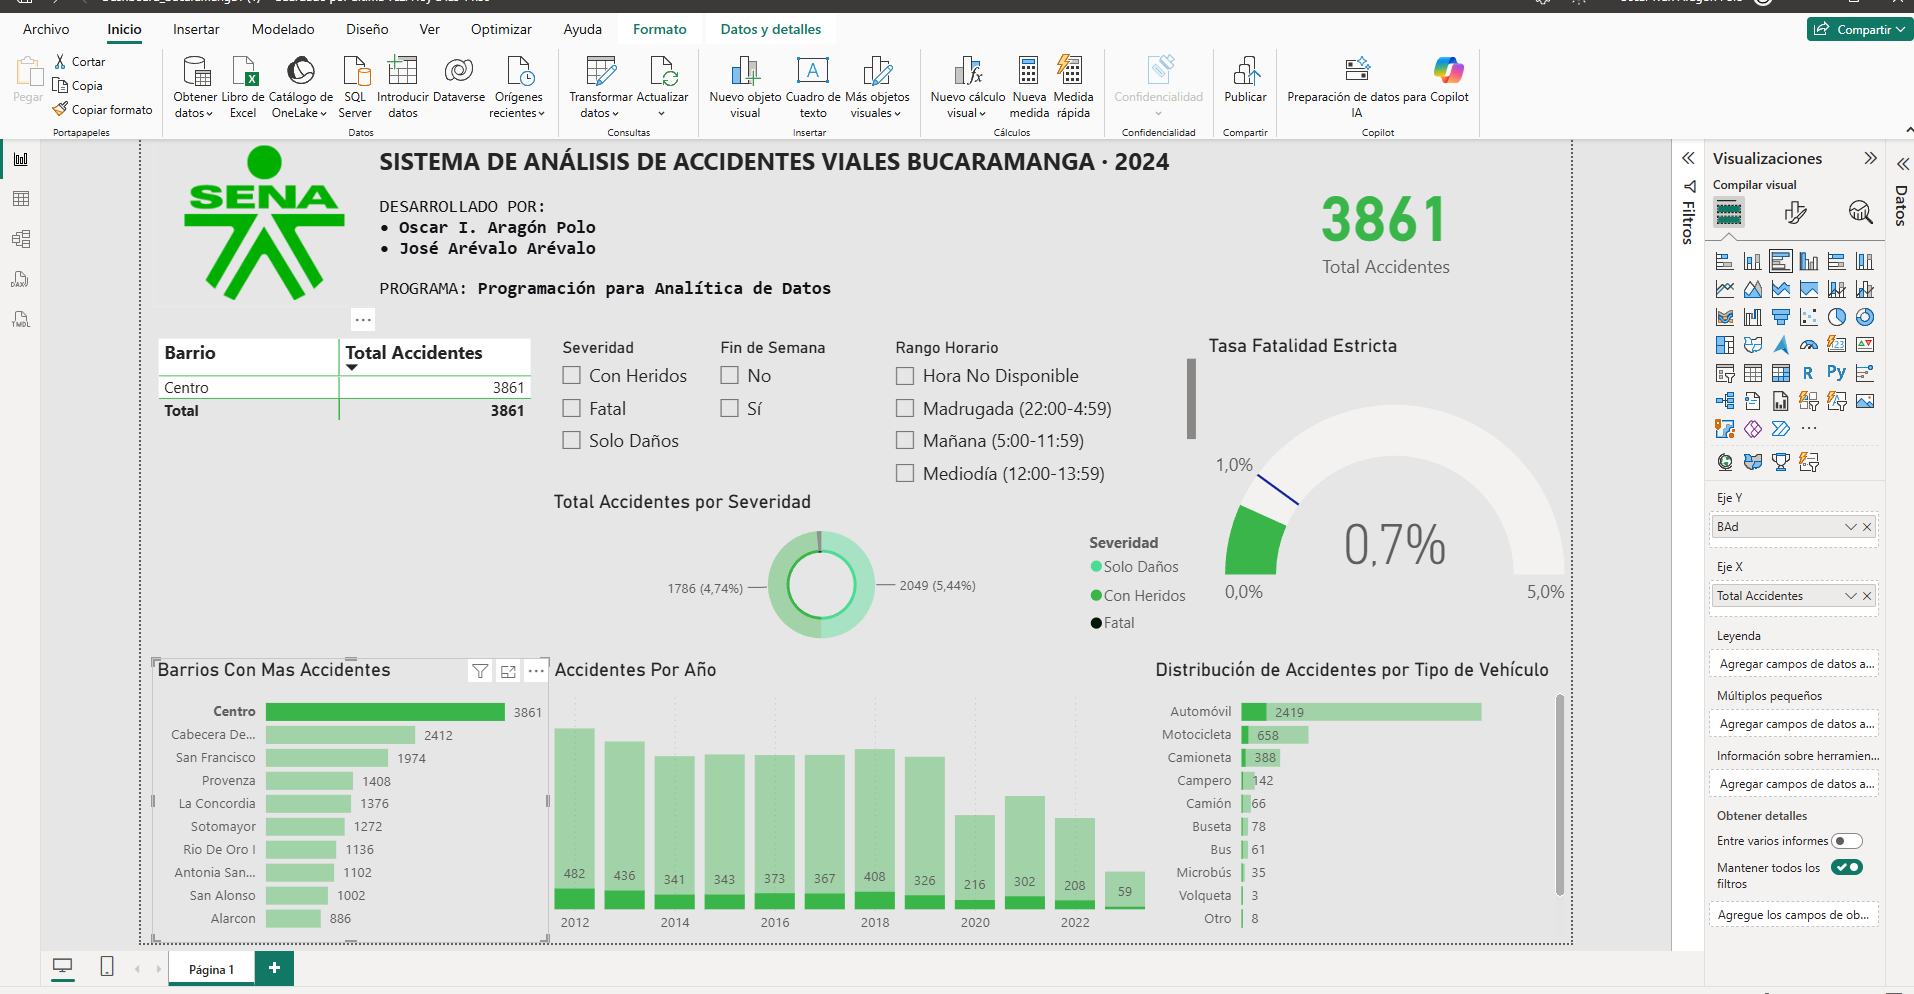

Layout of this report page (visuals, bound fields, positions):
{"tool":"powerbi","page":{"name":"Página 1","canvas":[1280,720],"ordinal":0},"visuals":[{"type":"card","fields":{"Values":["Accidentes_Bucaramanga.Total Accidentes Corregido"]},"box":[950.4,0,329.6,150.5],"z":0},{"type":"tableEx","fields":{"Values":["Accidentes_Bucaramanga.BARRIO","Accidentes_Bucaramanga.Total Accidentes"]},"box":[10,173.8,355,256.2],"z":1000},{"type":"clusteredBarChart","title":"Barrios Con Mas Accidentes","fields":{"Category":["Accidentes_Bucaramanga.BARRIO"],"Y":["Accidentes_Bucaramanga.Total Accidentes"]},"box":[10,465,355,255],"z":2000},{"type":"barChart","title":"Distribución de Accidentes por Tipo de Vehículo","fields":{"Category":["Accidentes_Bucaramanga.VEHICULO_PRINCIPAL"],"Y":["Accidentes_Bucaramanga.Total Accidentes Corregido"]},"box":[903.8,465,376.2,255],"z":3000},{"type":"clusteredColumnChart","title":"Accidentes Por Año","fields":{"Category":["Accidentes_Bucaramanga.AÑO"],"Y":["Accidentes_Bucaramanga.Total Accidentes Corregido"]},"box":[365,465,538.8,255],"z":4000},{"type":"slicer","fields":{"Values":["Accidentes_Bucaramanga.SEVERIDAD"]},"box":[364.5,174.2,141.8,140.6],"z":5000},{"type":"donutChart","fields":{"Category":["Accidentes_Bucaramanga.SEVERIDAD"],"Y":["Accidentes_Bucaramanga.Total Accidentes Corregido"]},"box":[364.5,314.7,585.9,150.5],"z":6000},{"type":"gauge","fields":{"Y":["Accidentes_Bucaramanga.Tasa Fatalidad Estricta"]},"box":[950.8,174.2,328.8,290.8],"z":7000},{"type":"slicer","fields":{"Values":["Accidentes_Bucaramanga.RANGO_HORARIO"]},"box":[663,174.2,287.4,140.6],"z":8000},{"type":"image","box":[10.4,0,200,150],"z":9000},{"type":"textbox","box":[209,0,741.4,150.5],"z":10000},{"type":"slicer","fields":{"Values":["Accidentes_Bucaramanga.Fin de Semana"]},"box":[506.3,174.2,158,140.6],"z":11000}]}

Visuals, with their boxes on the page's 1280x720 design canvas (x1, y1, x2, y2). These are canvas units, not pixel positions in the 1914x994 screenshot, which may show the page scaled, cropped or inside an application window:
card - Accidentes_Bucaramanga.Total Accidentes Corregido: box(950, 0, 1280, 150)
tableEx - Accidentes_Bucaramanga.BARRIO x Accidentes_Bucaramanga.Total Accidentes: box(10, 174, 365, 430)
"Barrios Con Mas Accidentes" clusteredBarChart: box(10, 465, 365, 720)
"Distribución de Accidentes por Tipo de Vehículo" barChart: box(904, 465, 1280, 720)
"Accidentes Por Año" clusteredColumnChart: box(365, 465, 904, 720)
slicer - Accidentes_Bucaramanga.SEVERIDAD: box(364, 174, 506, 315)
donutChart - Accidentes_Bucaramanga.SEVERIDAD x Accidentes_Bucaramanga.Total Accidentes Corregido: box(364, 315, 950, 465)
gauge - Accidentes_Bucaramanga.Tasa Fatalidad Estricta: box(951, 174, 1280, 465)
slicer - Accidentes_Bucaramanga.RANGO_HORARIO: box(663, 174, 950, 315)
image: box(10, 0, 210, 150)
textbox: box(209, 0, 950, 150)
slicer - Accidentes_Bucaramanga.Fin de Semana: box(506, 174, 664, 315)
